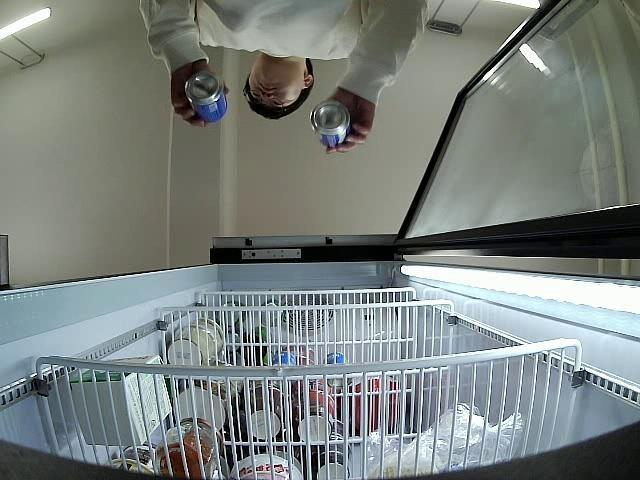13_pocariSweat: (185, 73, 226, 123), (310, 100, 352, 148)
